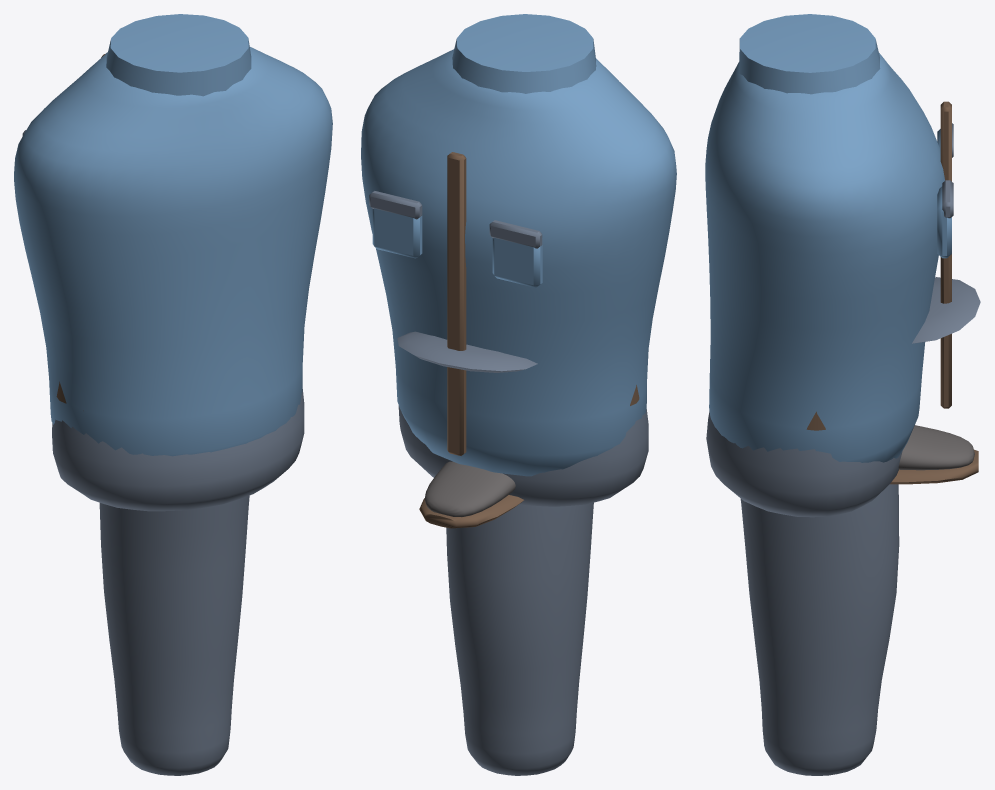
File: Character_Worker.fbx
3 renders of one model, left to right at view 1: azimuth 30°, elevation 25°; view 2: azimuth 150°, elevation 25°; view 3: azimuth 270°, elevation 25°, orthographic.
Visible parts, largest first — view 1: Part_Chest, Part_L_Thigh, Part_Pelvis; view 2: Part_Chest, Part_L_Thigh, Part_Pelvis, Part_L_Foot, Part_Head; view 3: Part_Chest, Part_L_Thigh, Part_Pelvis, Part_L_Foot, Part_Head.
Boxes of the visible parts, left/top/right/bottom form: Part_Chest: left=14, top=14, right=332, bottom=456; Part_L_Thigh: left=99, top=495, right=249, bottom=775; Part_Pelvis: left=52, top=381, right=304, bottom=511; Part_Chest: left=361, top=14, right=676, bottom=476; Part_L_Thigh: left=446, top=502, right=593, bottom=775; Part_Pelvis: left=398, top=385, right=648, bottom=506; Part_L_Foot: left=419, top=461, right=523, bottom=528; Part_Head: left=397, top=331, right=537, bottom=372; Part_Chest: left=705, top=14, right=953, bottom=462; Part_L_Thigh: left=740, top=484, right=899, bottom=775; Part_Pelvis: left=706, top=411, right=902, bottom=517; Part_L_Foot: left=890, top=425, right=978, bottom=484; Part_Head: left=912, top=277, right=980, bottom=343.
Bounding box in the file's own units: 0.421 × 0.983 × 0.3397.
